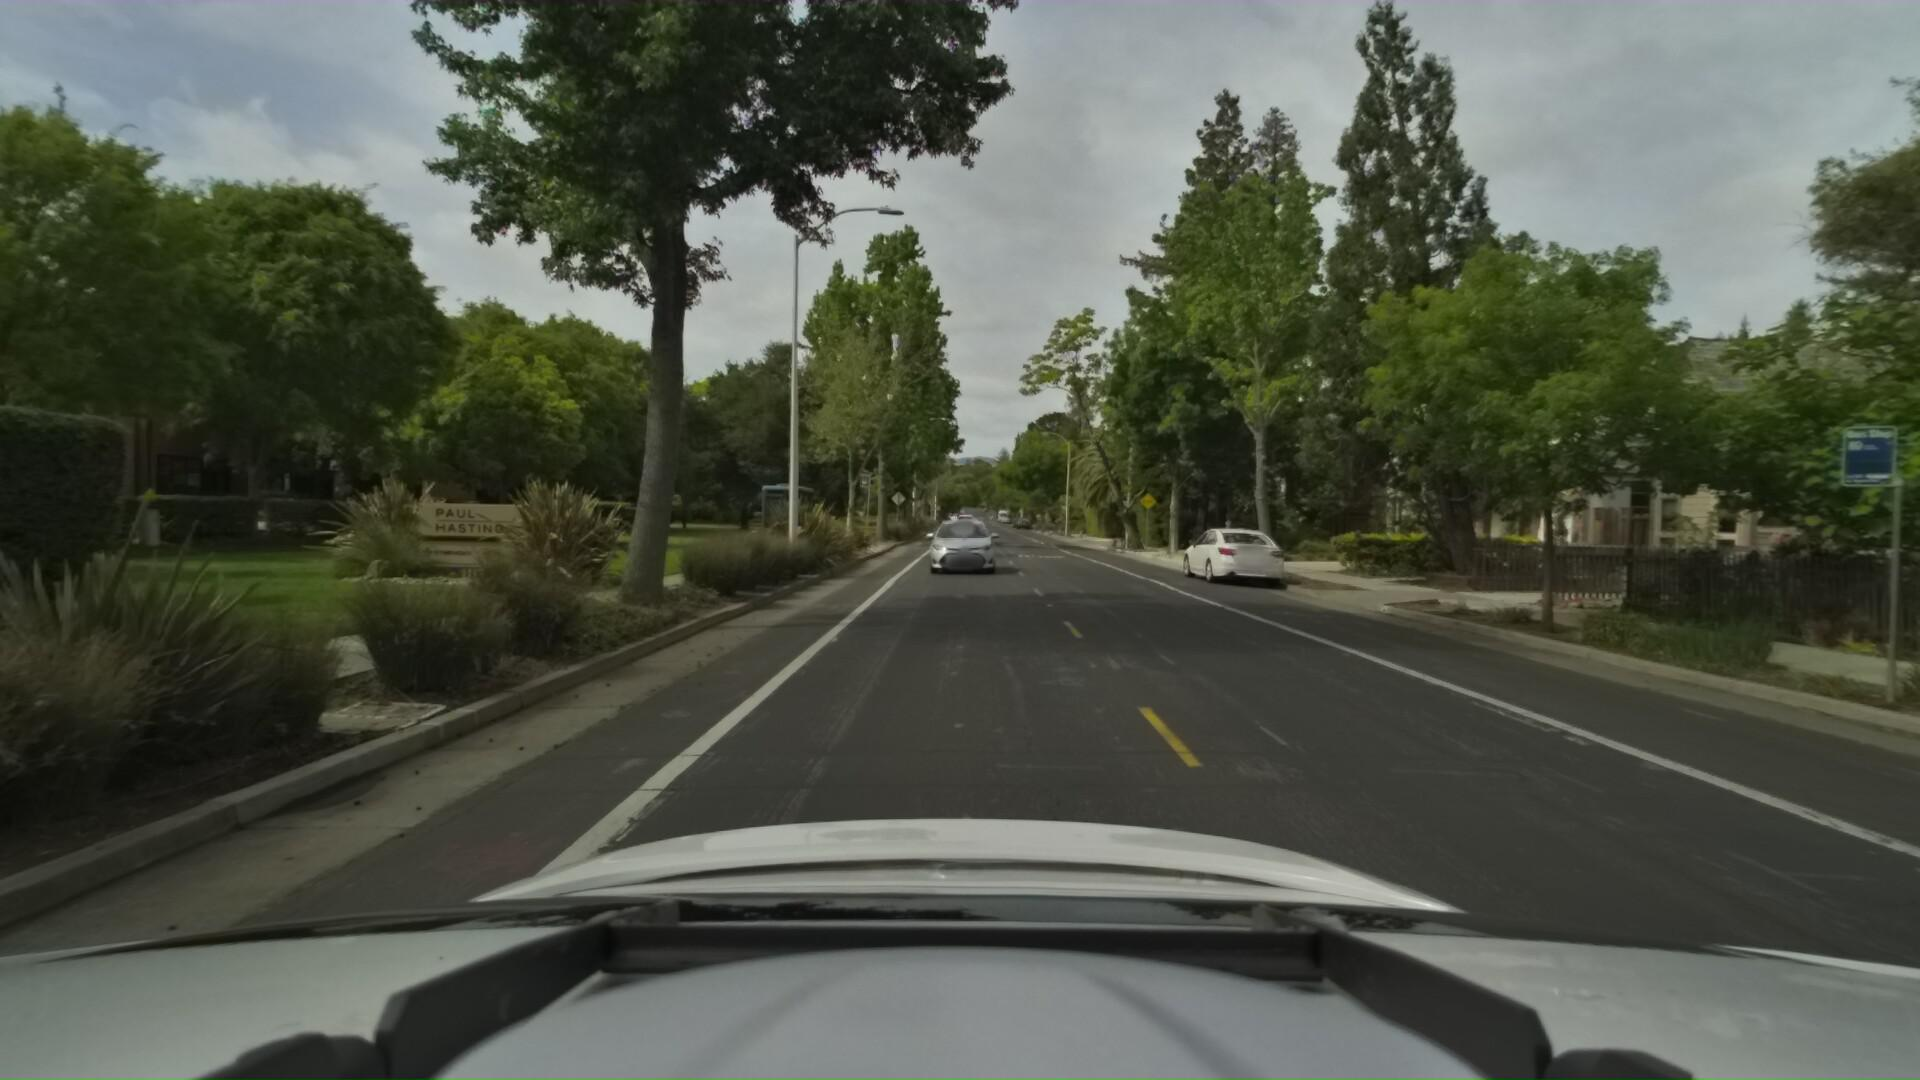car: (1170, 524, 1280, 584), (920, 513, 996, 574), (953, 512, 992, 545)
